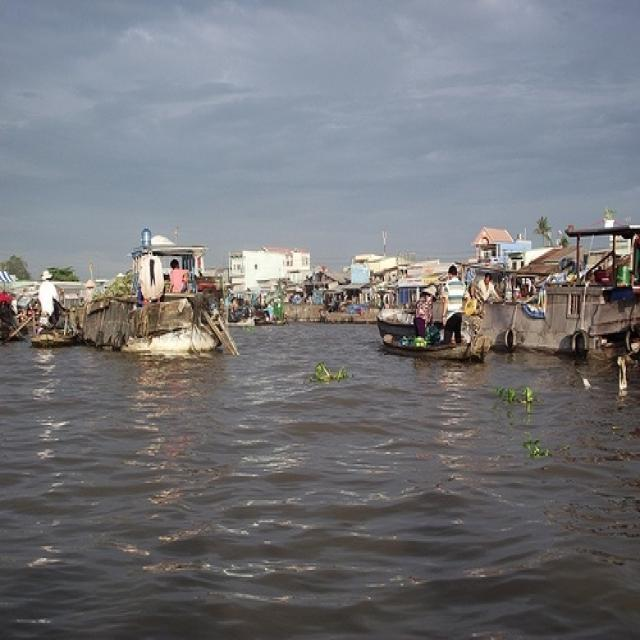Hyacinth: (309, 364, 360, 386), (502, 387, 538, 411), (520, 433, 548, 460)
boat: (460, 286, 640, 359), (130, 242, 226, 356), (382, 334, 491, 367), (34, 328, 71, 352)
